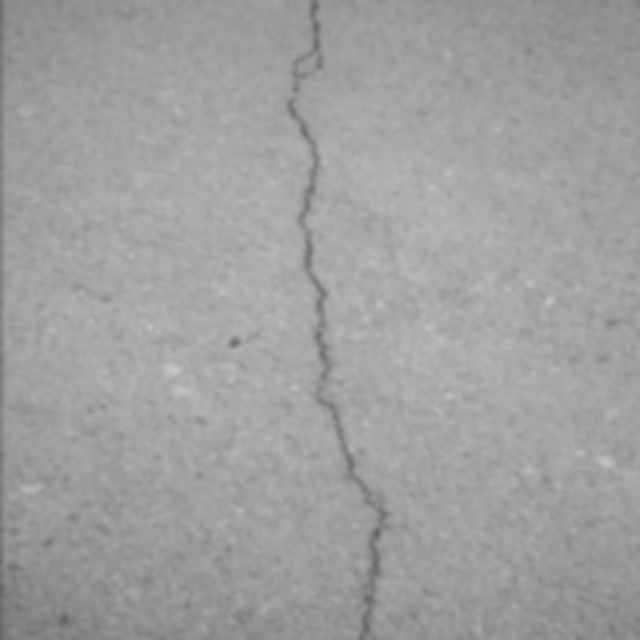SurfaceCrack: (259, 0, 412, 640)
